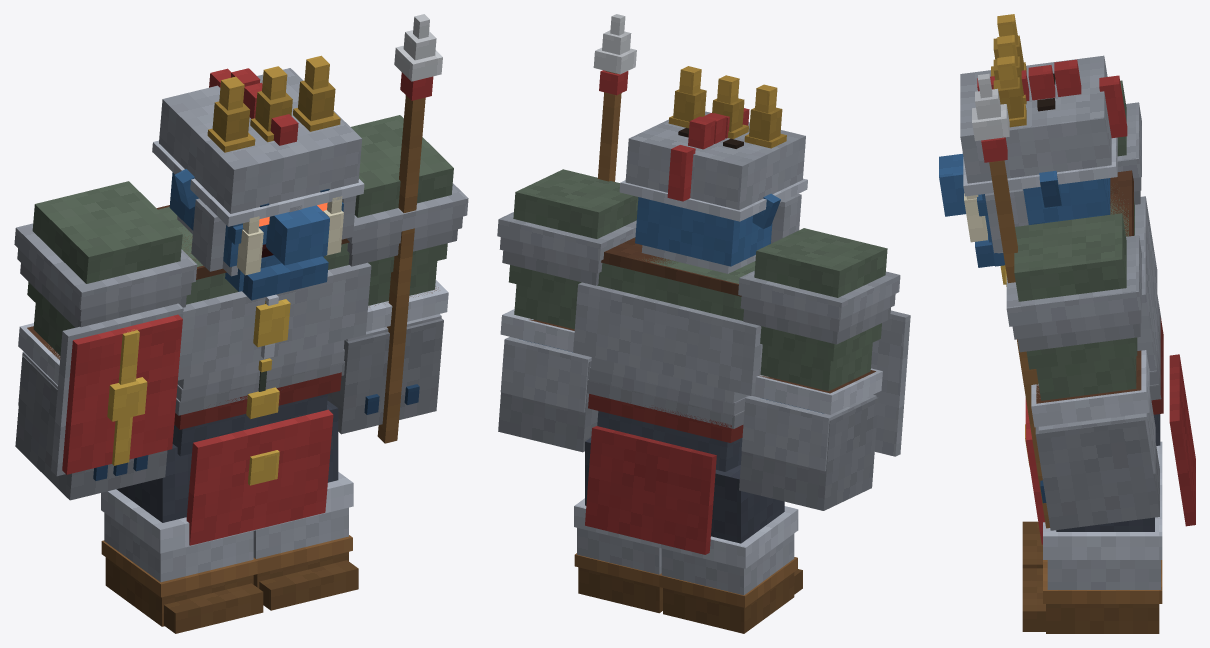
Rendered from ogre_garde_v2.glb.
3 views of the same model, side by side, from view 1: azimuth 30°, elevation 25°; view 2: azimuth 150°, elevation 25°; view 3: azimuth 270°, elevation 25° (orthographic). The views are drawn at different scales.
Visible parts, largest first — view 1: ArmR, Torso, Head, ArmL, LegR, LegL, HandL; view 2: Torso, ArmR, Head, ArmL, LegR, LegL, HandL; view 3: ArmL, Head, LegL, Torso, HandL, ArmR, LegR.
Boxes of the visible parts, left/top/right/bottom form: ArmR: left=14, top=181, right=197, bottom=500; Torso: left=156, top=205, right=371, bottom=545; Head: left=152, top=55, right=364, bottom=300; ArmL: left=327, top=115, right=468, bottom=434; LegR: left=101, top=444, right=263, bottom=633; LegL: left=253, top=401, right=358, bottom=610; HandL: left=377, top=14, right=442, bottom=443; Torso: left=573, top=237, right=766, bottom=554; ArmR: left=738, top=228, right=910, bottom=510; Head: left=619, top=66, right=807, bottom=273; ArmL: left=497, top=169, right=638, bottom=452; LegR: left=659, top=465, right=802, bottom=633; LegL: left=574, top=437, right=662, bottom=613; HandL: left=593, top=14, right=636, bottom=181; ArmL: left=1006, top=213, right=1159, bottom=530; Head: left=939, top=14, right=1127, bottom=267; LegL: left=1022, top=489, right=1162, bottom=633; Torso: left=1005, top=170, right=1195, bottom=544; HandL: left=972, top=73, right=1050, bottom=528; ArmR: left=1000, top=80, right=1141, bottom=284; LegR: left=1022, top=441, right=1162, bottom=568.
Size of the model in its own units: 1.59 by 2.19 by 0.883.
Materials: 43 (43 with a texture image).
